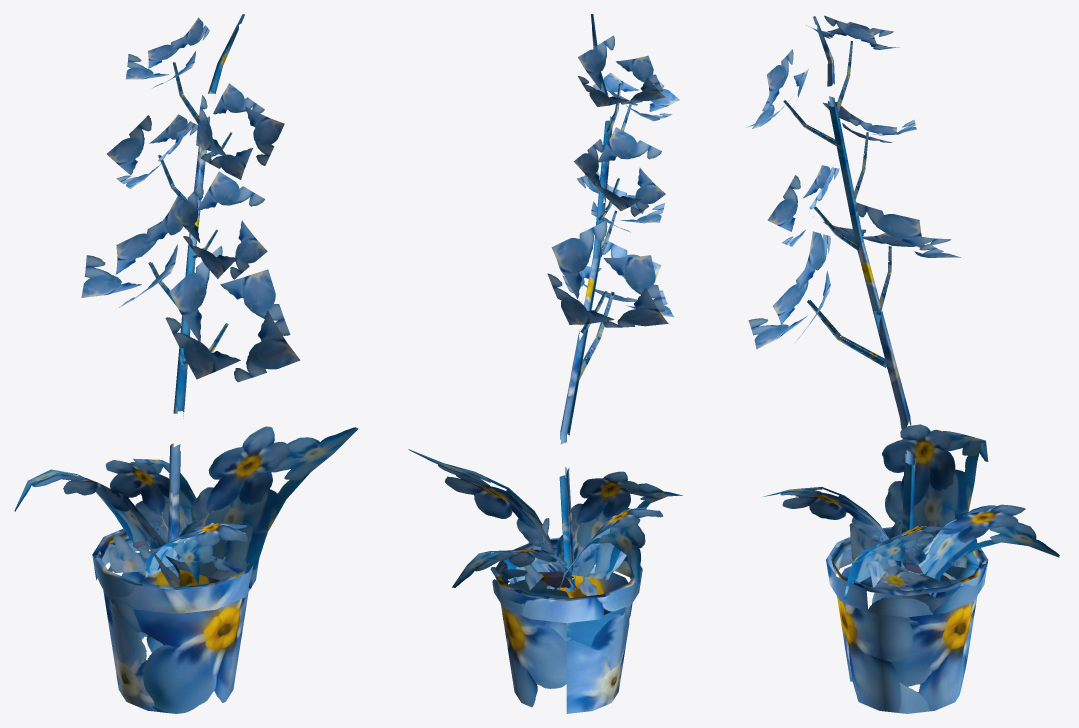
Rendered from Orchid.fbx.
3 renders of one model, left to right at view 1: azimuth 30°, elevation 25°; view 2: azimuth 150°, elevation 25°; view 3: azimuth 270°, elevation 25°, orthographic. The views are drawn at different scales.
Parts seen in each view (by area): view 1: Orchid:orkide; view 2: Orchid:orkide; view 3: Orchid:orkide.
Boxes of the visible parts, x1,y1,x2,y2 form: Orchid:orkide: (14, 14, 358, 713); Orchid:orkide: (408, 14, 682, 713); Orchid:orkide: (746, 15, 1059, 713).
Bounding box in the file's own units: 262 × 556 × 237.
